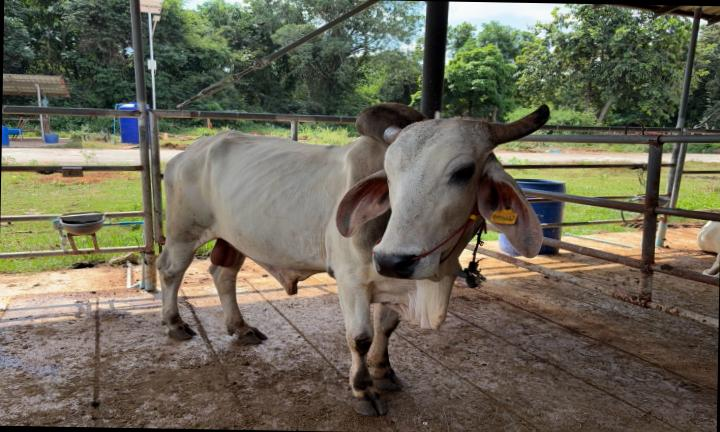Brahman: (157, 103, 549, 416)
